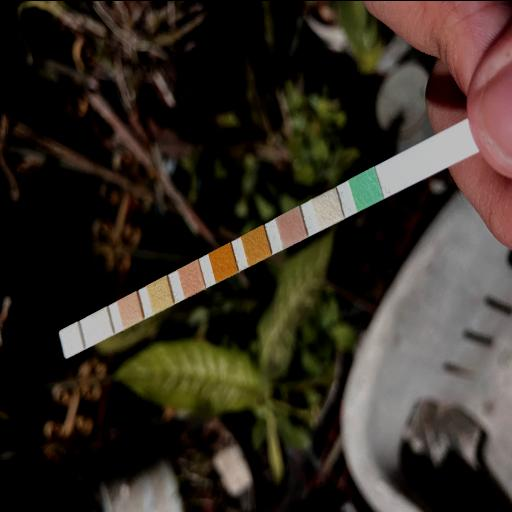Bilirubin: (319, 194, 337, 222)
Blood: (216, 248, 230, 276)
Glucose: (358, 174, 374, 204)
Ketone: (283, 212, 300, 241)
Leukocytes: (66, 326, 78, 354)
Nitrite: (94, 312, 106, 338)
Protein: (154, 281, 166, 309)
SpGravity: (248, 230, 264, 260)
Urobilinogen: (124, 296, 138, 324)
pH: (184, 264, 198, 290)
strip: (60, 120, 474, 359)
